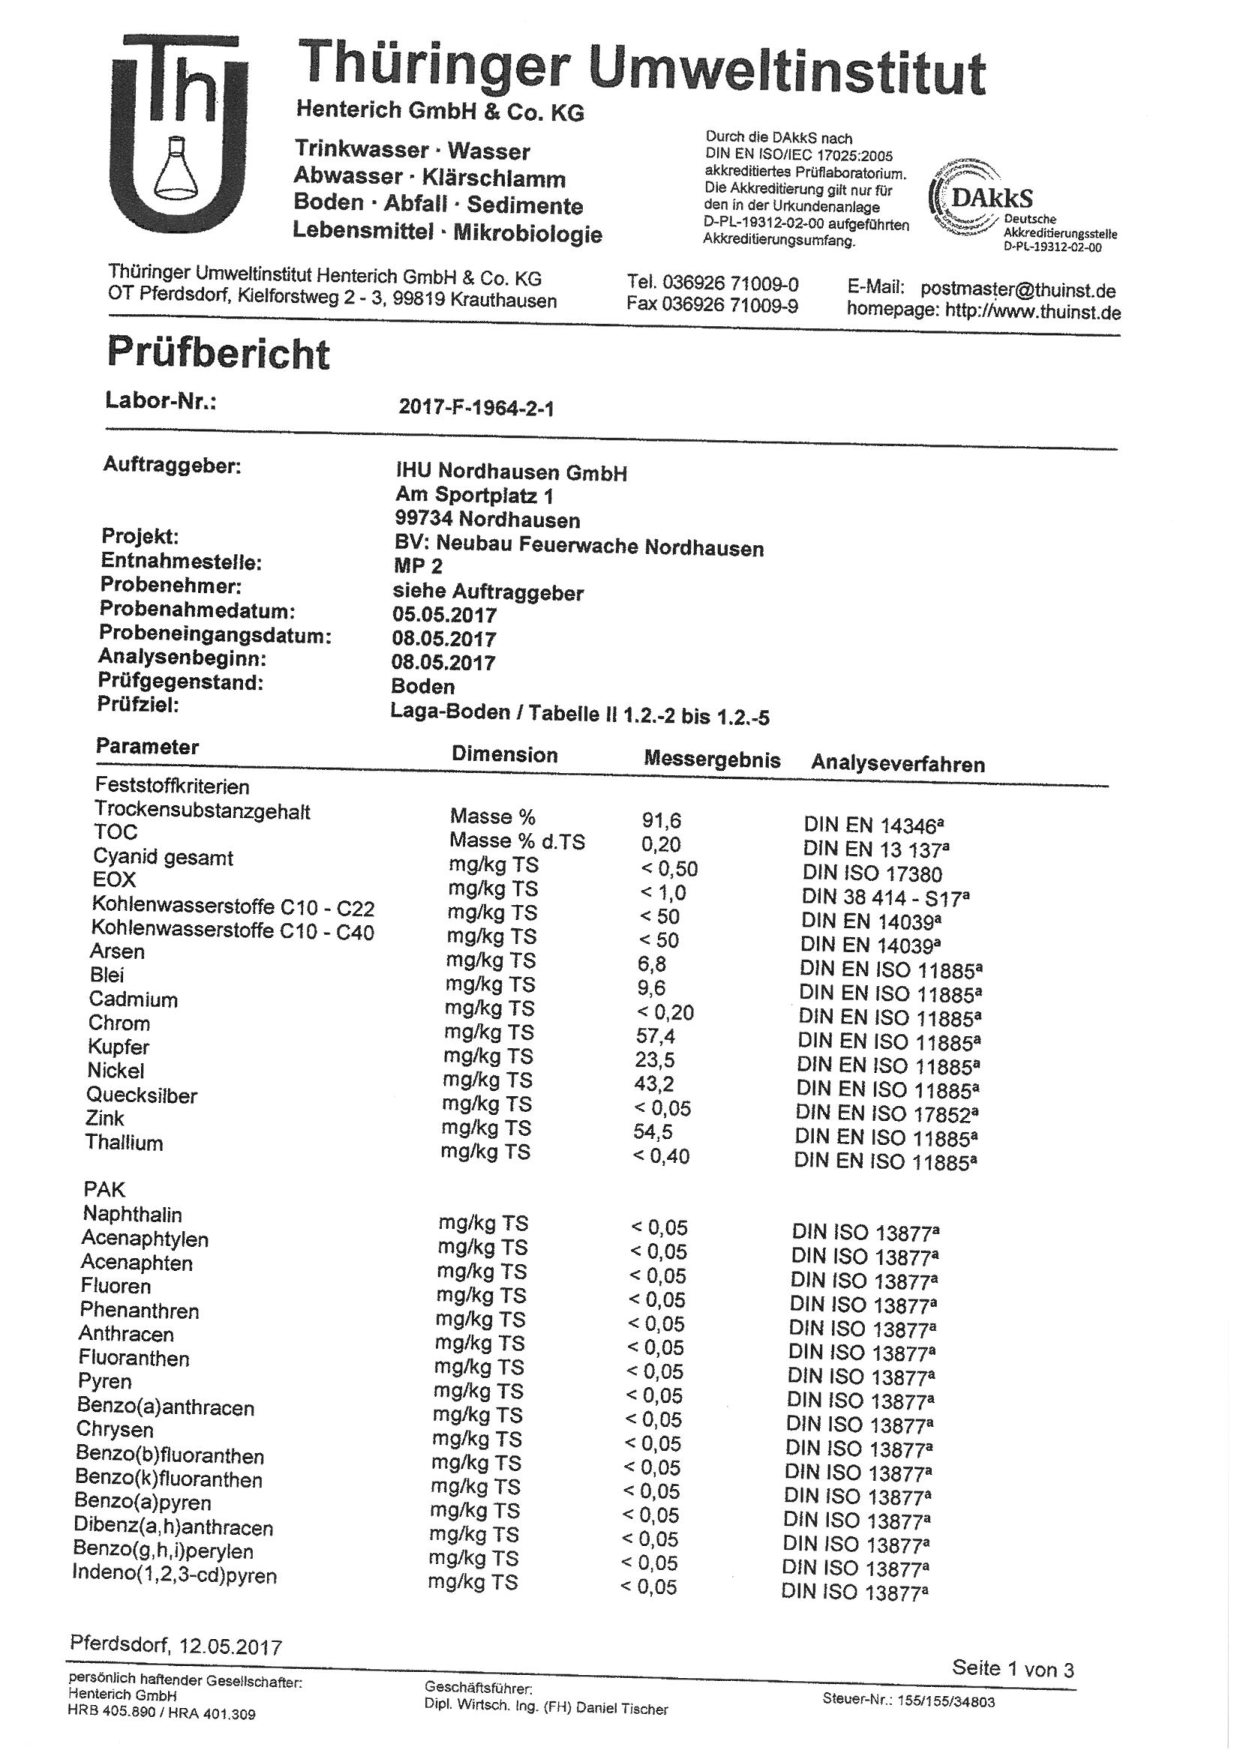table: (44, 736, 1079, 1611), (72, 443, 829, 738)
